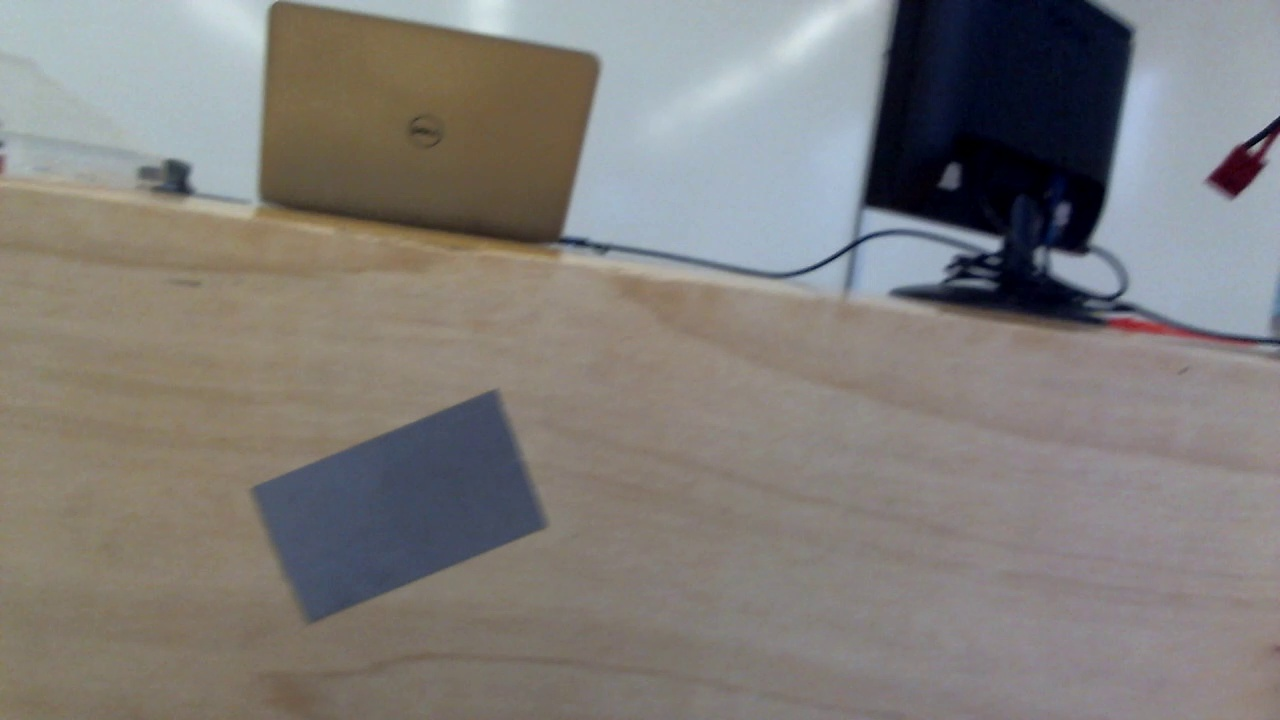Tape: (251, 393, 555, 622)
